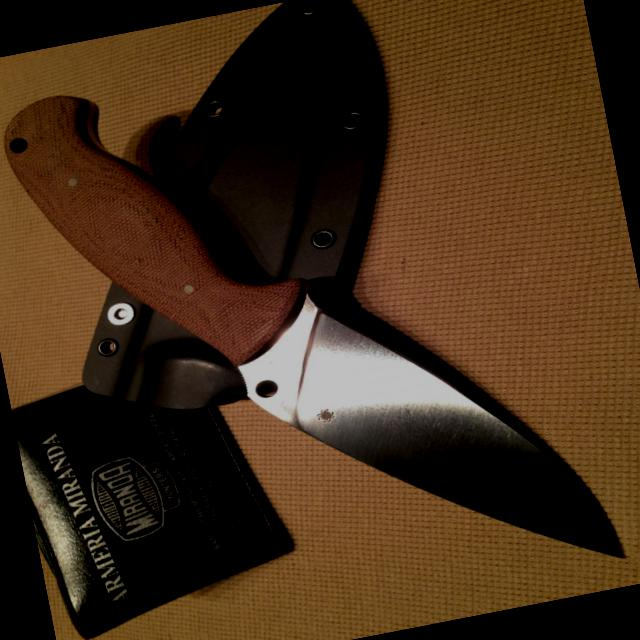knife: (200, 220, 634, 635)
